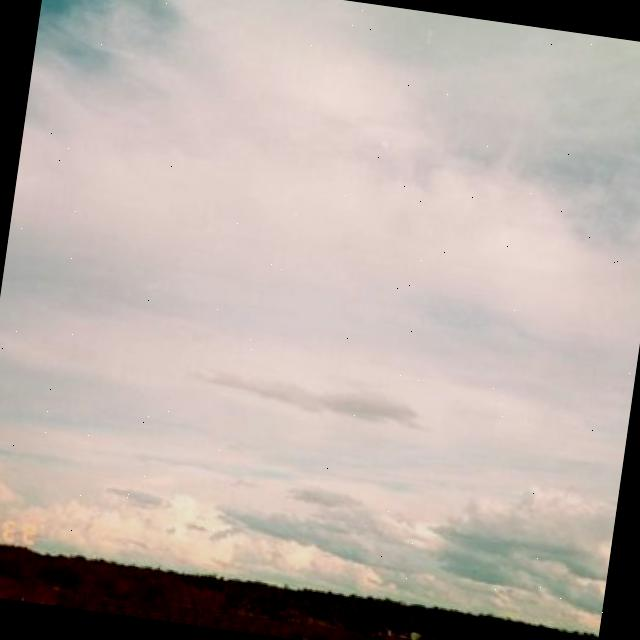Cs: (1, 1, 640, 618)
